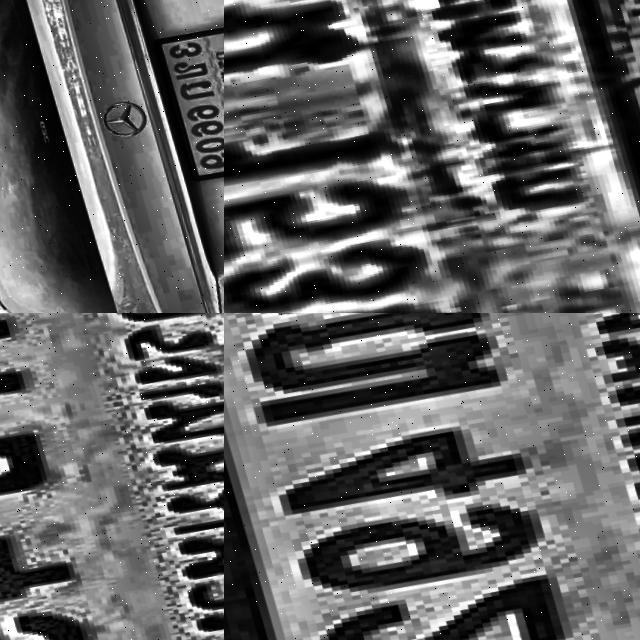license-plate: (224, 313, 640, 640), (224, 0, 640, 313), (0, 313, 224, 640), (145, 21, 224, 179)
